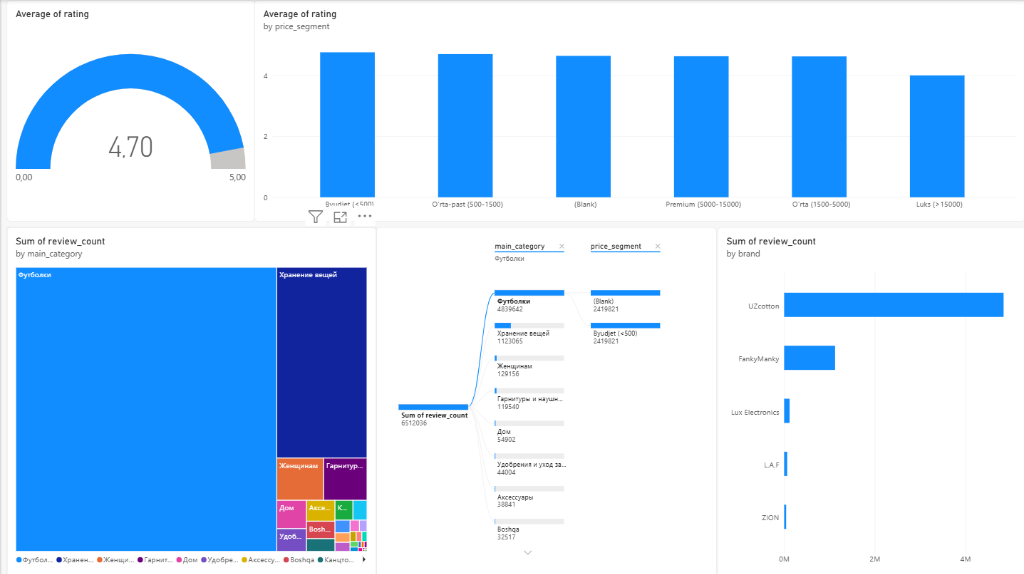

Layout of this report page (visuals, bound fields, positions):
{"tool":"powerbi","page":{"name":"Page 3","canvas":[1920,1080],"ordinal":2},"visuals":[{"type":"gauge","fields":{"Y":["Avg(WB_Products.rating)"]},"box":[10,0,465,415],"z":0},{"type":"clusteredColumnChart","fields":{"Category":["WB_Products.price_segment"],"Y":["Avg(WB_Products.rating)"]},"box":[475,0,1445,415],"z":1000},{"type":"treemap","fields":{"Group":["WB_Products.main_category"],"Values":["Sum(WB_Products.review_count)"]},"box":[10,425,692.5,655],"z":2000},{"type":"decompositionTreeVisual","fields":{"Analyze":["Sum(WB_Products.review_count)"],"ExplainBy":["WB_Products.main_category","WB_Products.price_segment"]},"box":[702.5,425,637.5,655],"z":3000},{"type":"barChart","fields":{"Category":["WB_Products.brand"],"Y":["Sum(WB_Products.review_count)"]},"box":[1342,426,578,654],"z":4000}]}

Visuals, with their boxes in screenshot pixels (x1, y1, x2, y2), scaled from the page's 1920x1080 canvas onto the 1024x574 screenshot:
gauge - Avg(WB_Products.rating): box(5, 0, 253, 221)
clusteredColumnChart - WB_Products.price_segment x Avg(WB_Products.rating): box(253, 0, 1023, 221)
treemap - WB_Products.main_category x Sum(WB_Products.review_count): box(5, 226, 375, 573)
decompositionTreeVisual - Sum(WB_Products.review_count) x WB_Products.main_category: box(375, 226, 715, 573)
barChart - WB_Products.brand x Sum(WB_Products.review_count): box(716, 226, 1023, 573)
